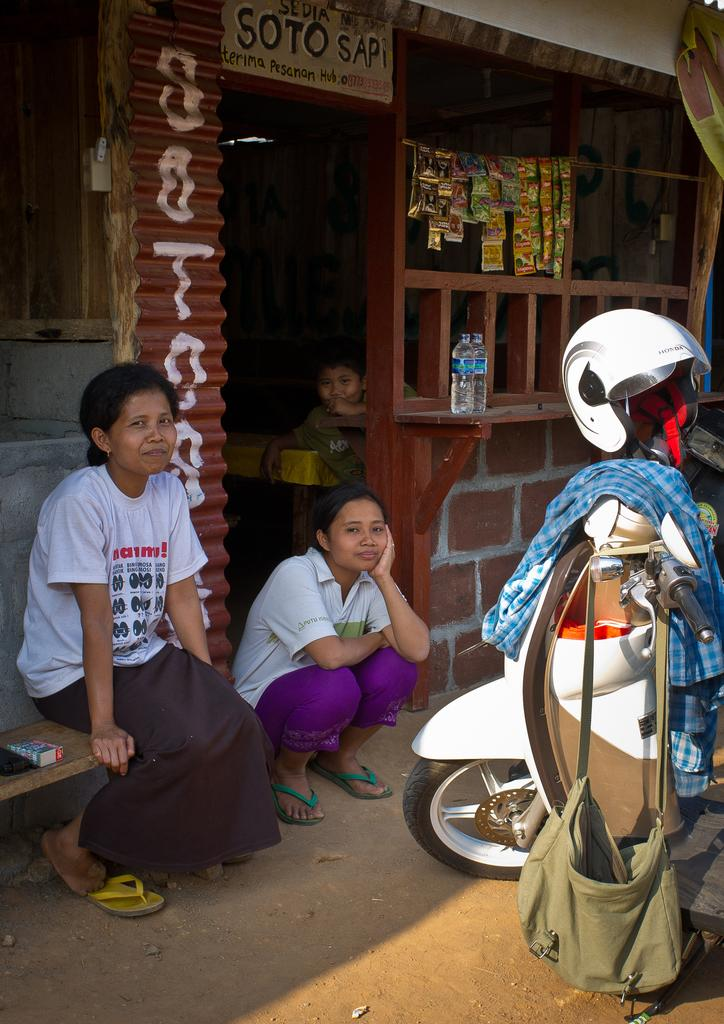helmet: (561, 308, 712, 454)
nohelmet: (77, 360, 181, 480), (310, 480, 390, 577)
